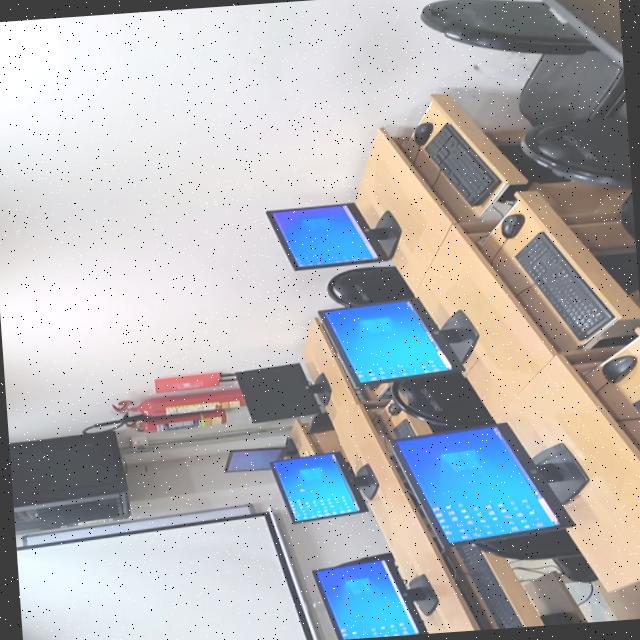Chair: (419, 0, 625, 126), (519, 119, 632, 190), (391, 372, 493, 428), (326, 266, 412, 307), (471, 529, 579, 560)
Fire Extinguisher: (126, 388, 243, 416), (124, 410, 225, 433)
Keyboard: (514, 232, 613, 341), (426, 125, 498, 205), (454, 544, 521, 628), (392, 419, 413, 439)
Monitor: (389, 423, 571, 544), (318, 299, 476, 385), (311, 553, 436, 640), (265, 203, 399, 270), (269, 452, 377, 523), (233, 363, 329, 422), (223, 447, 284, 472)
Mouse: (601, 355, 635, 383), (500, 214, 524, 238), (412, 122, 432, 145), (384, 399, 401, 416)
